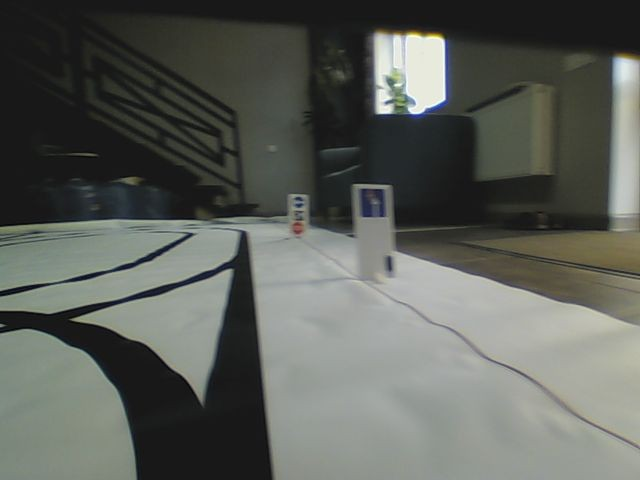priority_movement: (358, 186, 387, 218)
